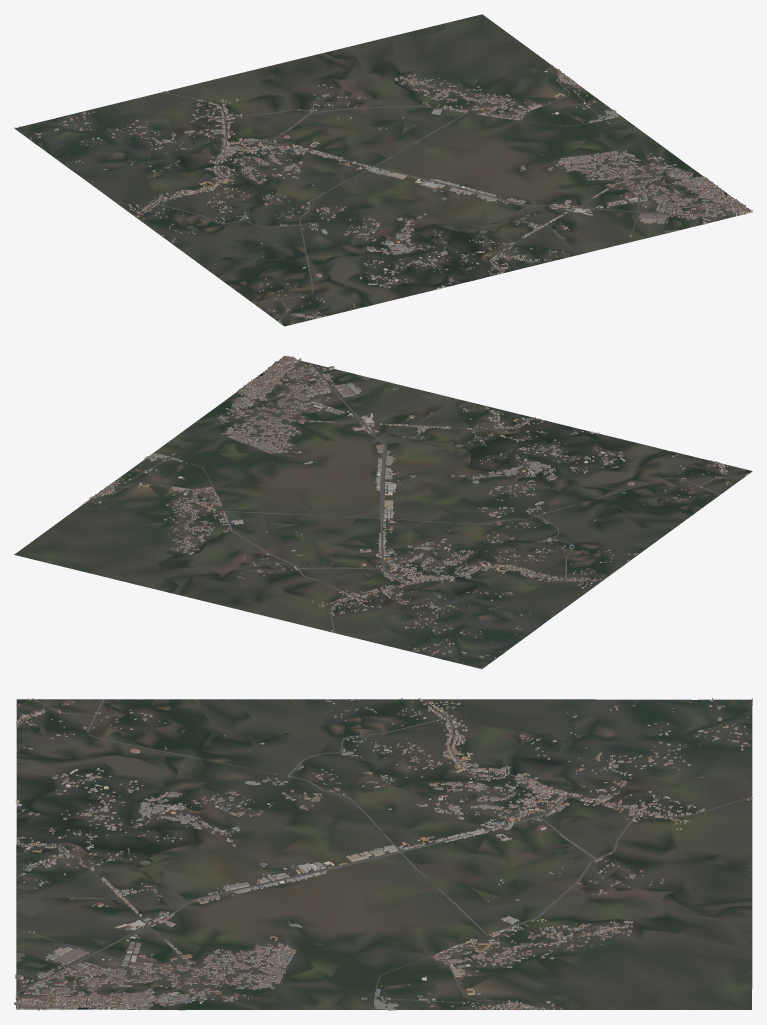
The picture shows the model from 3 angles, top to bottom: view 1: azimuth 30°, elevation 25°; view 2: azimuth 150°, elevation 25°; view 3: azimuth 270°, elevation 25°; orthographic projection. The views are drawn at different scales.
Visible parts, largest first — view 1: ground, buildings, roads, water; view 2: ground, buildings, roads, water; view 3: ground, buildings, roads, water.
Boxes of the visible parts, x1,y1,x2,y2 form: ground: (15, 14, 752, 326); buildings: (14, 65, 752, 324); roads: (142, 69, 727, 321); water: (46, 60, 728, 272); ground: (14, 360, 752, 668); buildings: (84, 355, 748, 669); roads: (89, 362, 745, 633); water: (78, 373, 643, 652); ground: (16, 699, 752, 1010); buildings: (14, 698, 752, 1010); roads: (16, 699, 752, 1009); water: (16, 709, 750, 1009).
Bounding box in the file's own units: 5625 × 35.41 × 5632.
